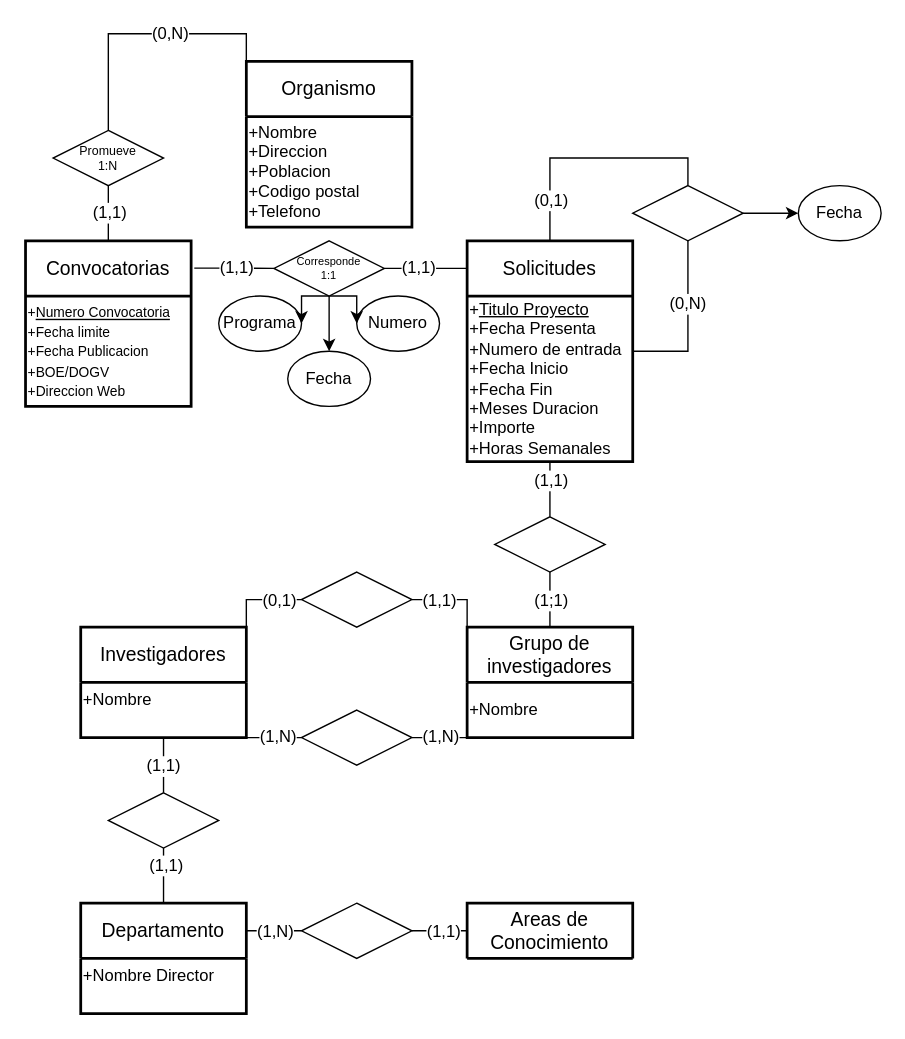
Image size: 905x1039. Some labels were removed from this diagram. Here are the shapes that lost their labels. From the top down, the centre of each, then its label:
[687,212]: Resolucion 1:N
[549,543]: Participa 1:1
[356,599]: Responsable 1:1
[356,737]: Pertenece N:M
[163,819]: Pertenece 1:1
[356,930]: Pertenece 1:N
